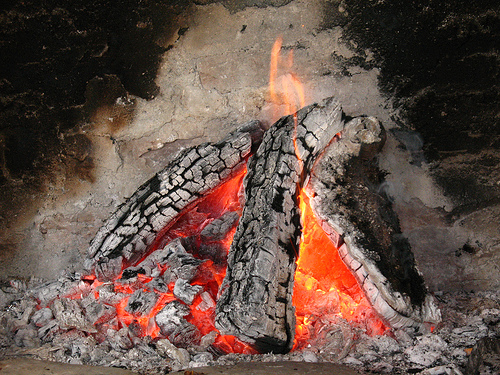fire: (93, 125, 401, 336)
